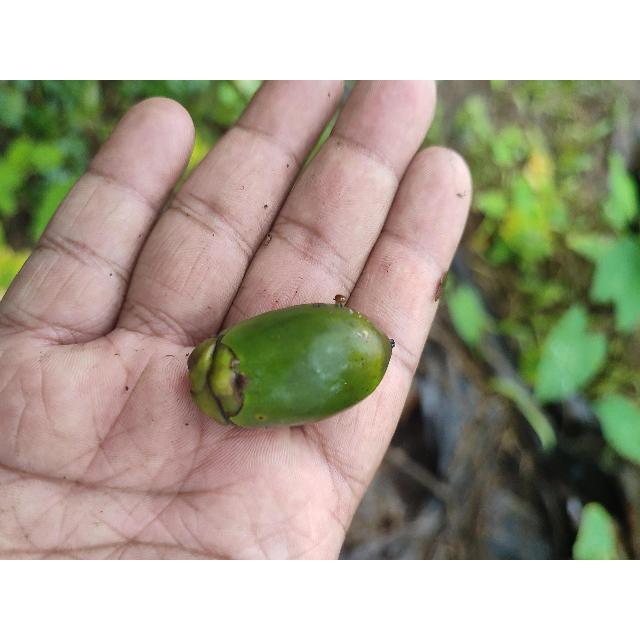good: (184, 302, 395, 430)
